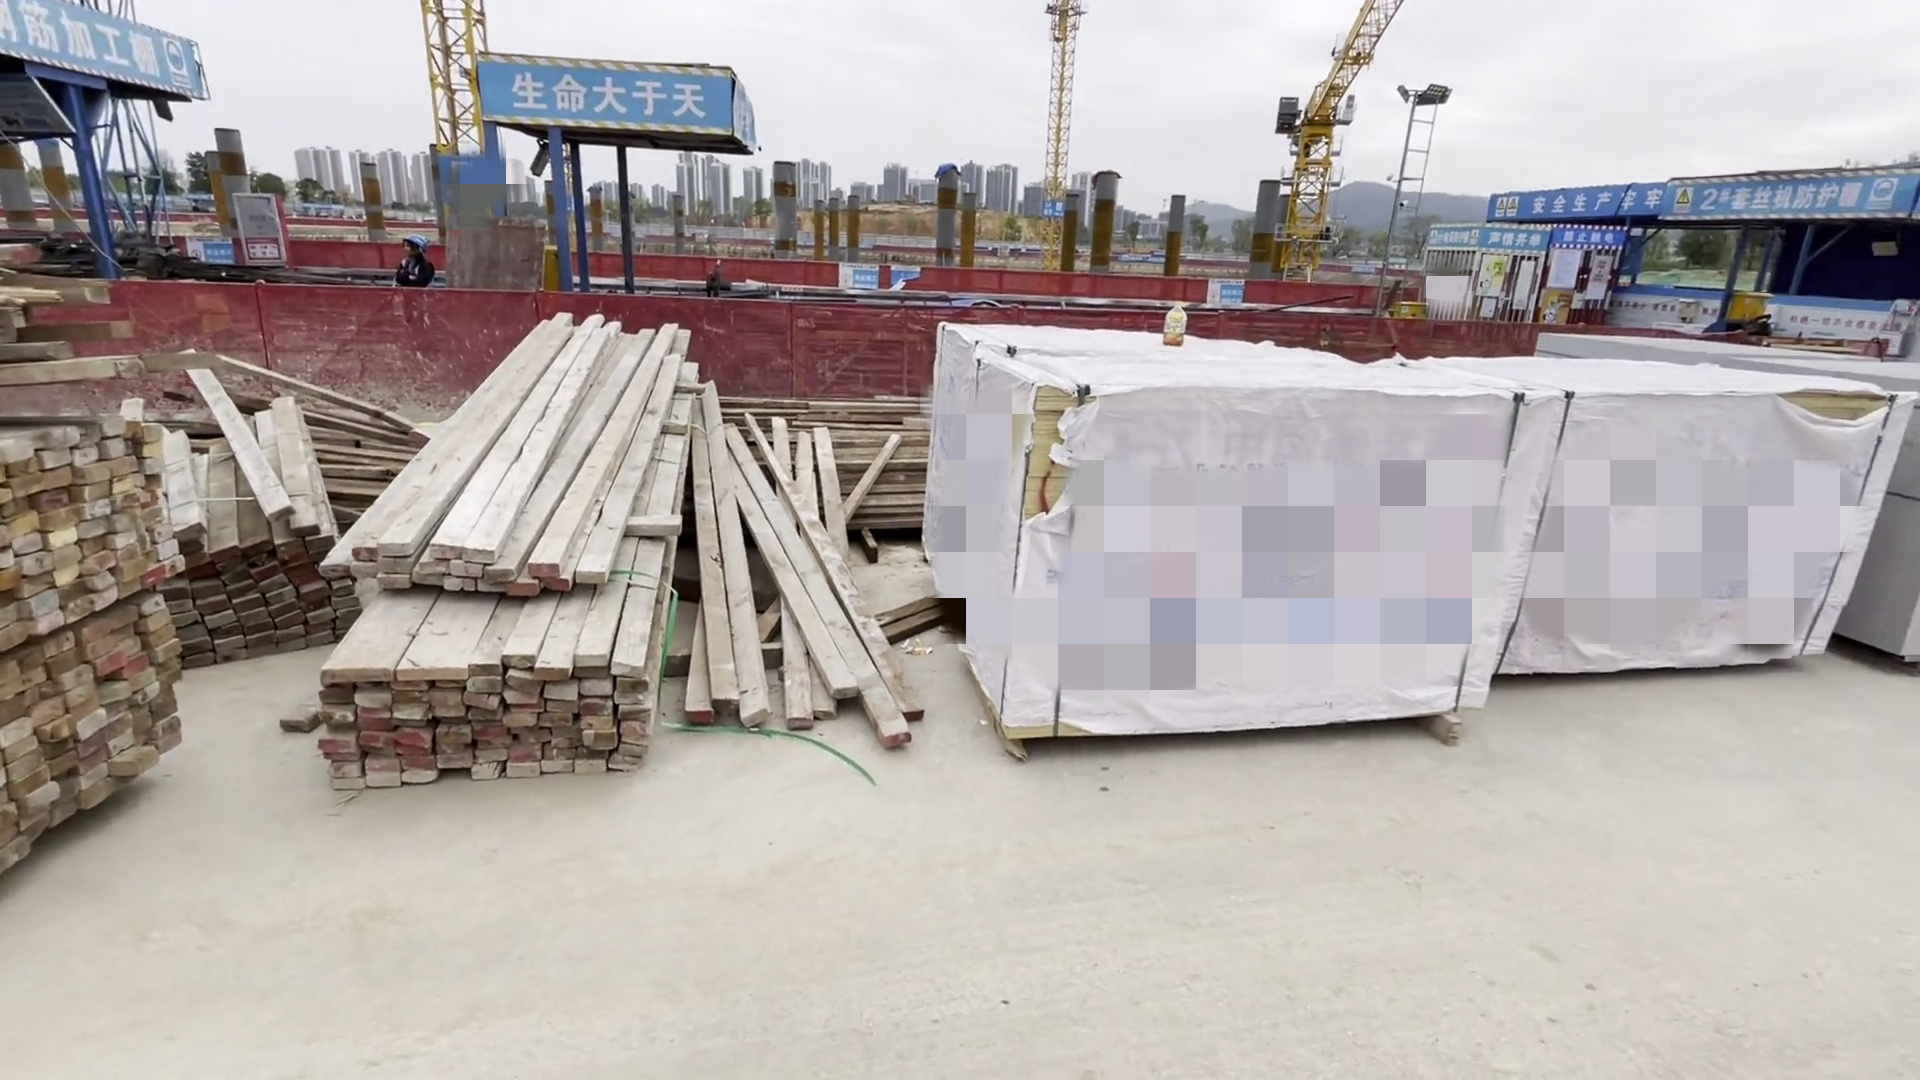slogan: (483, 53, 732, 138), (1506, 181, 1920, 224)
wood: (3, 309, 939, 869)
